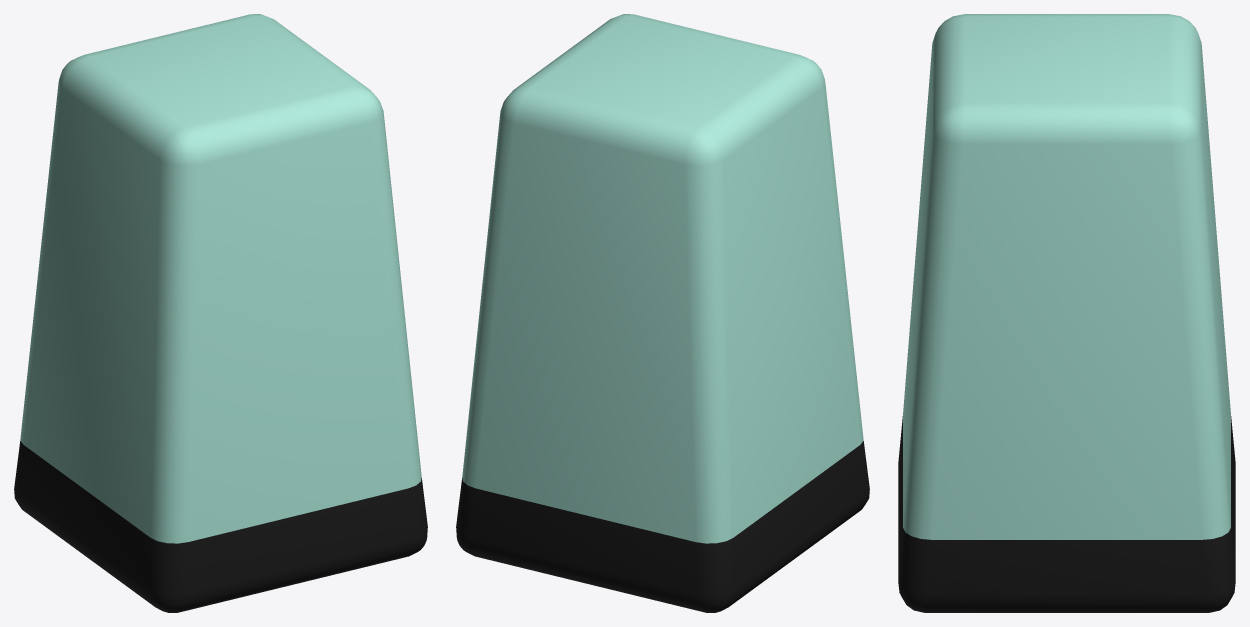
File: Table Light.fbx
3 renders of one model, left to right at view 1: azimuth 30°, elevation 25°; view 2: azimuth 150°, elevation 25°; view 3: azimuth 270°, elevation 25°, orthographic. The views are drawn at different scales.
Parts seen in each view (by area): view 1: Table Light; view 2: Table Light; view 3: Table Light.
Boxes of the visible parts, x1,y1,x2,y2 form: Table Light: (14,14,427,612); Table Light: (456,14,869,612); Table Light: (898,14,1235,612).
Bounding box in the file's own units: 11.1 × 17.8 × 11.1.
